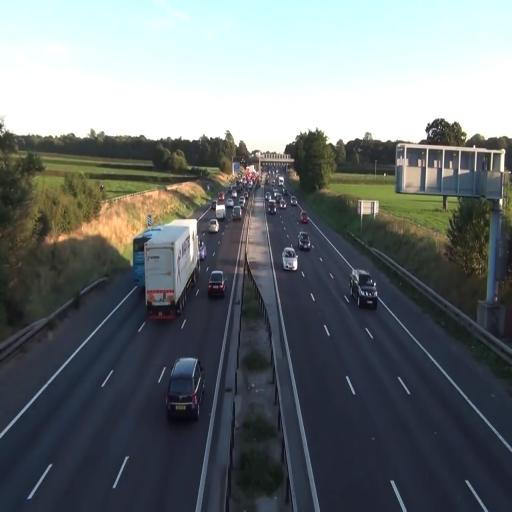vehicle: (141, 219, 200, 319), (165, 357, 205, 421), (350, 267, 378, 311), (196, 204, 220, 235), (207, 269, 226, 298), (282, 245, 298, 272), (298, 231, 311, 250), (215, 200, 225, 218), (233, 202, 242, 220)
